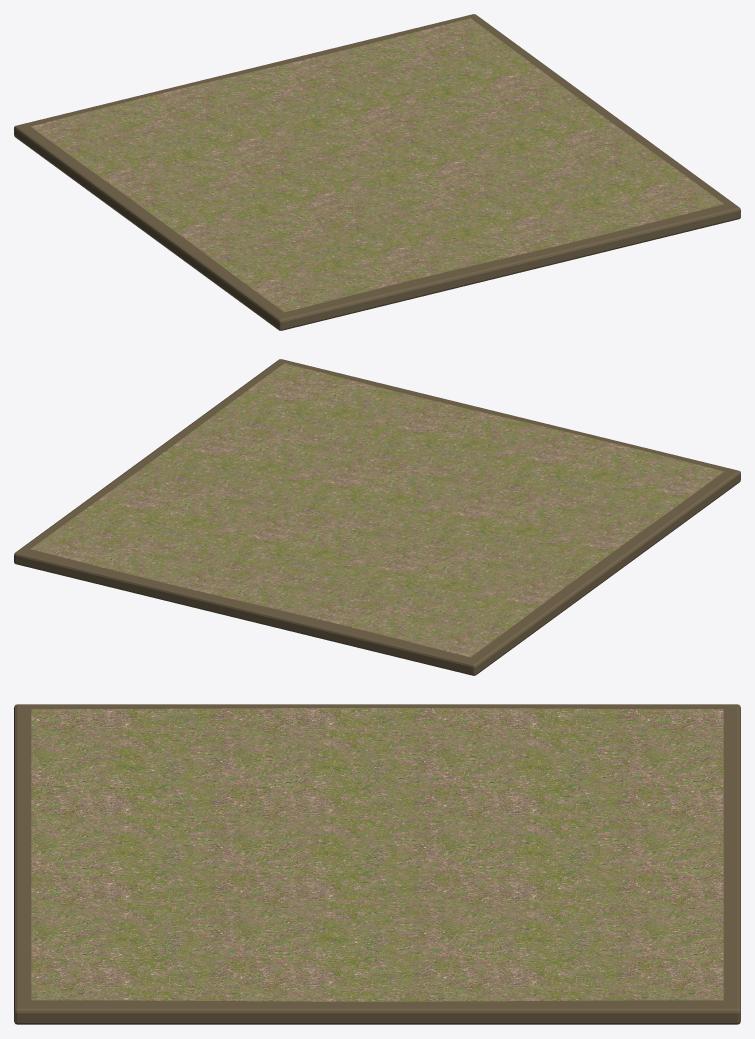
File: terrain-pbr-v2.glb
The picture shows the model from 3 angles, top to bottom: view 1: azimuth 30°, elevation 25°; view 2: azimuth 150°, elevation 25°; view 3: azimuth 270°, elevation 25°; orthographic projection. The views are drawn at different scales.
Parts seen in each view (by area): view 1: Terrain_Grass_Surface, Terrain_Soil_Base; view 2: Terrain_Grass_Surface, Terrain_Soil_Base; view 3: Terrain_Grass_Surface, Terrain_Soil_Base.
Part boxes in pixels (left/top/right/bottom): Terrain_Grass_Surface: left=30, top=18, right=724, bottom=312; Terrain_Soil_Base: left=14, top=14, right=740, bottom=330; Terrain_Grass_Surface: left=30, top=363, right=724, bottom=657; Terrain_Soil_Base: left=14, top=359, right=740, bottom=675; Terrain_Grass_Surface: left=31, top=708, right=723, bottom=1001; Terrain_Soil_Base: left=14, top=704, right=740, bottom=1024.
Bounding box in the file's own units: 25 × 0.7032 × 25.
Materials: 2 (1 with a texture image).
